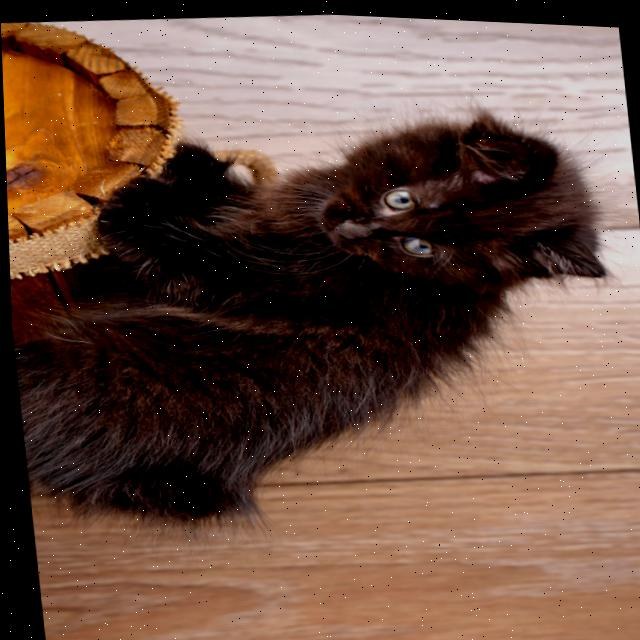American Bobtail: (2, 81, 640, 555)
